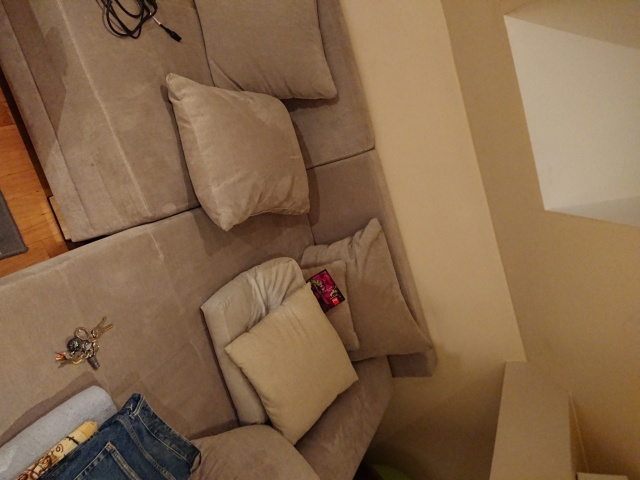Franck Black Currant Tea 60g: (304, 267, 347, 313)
